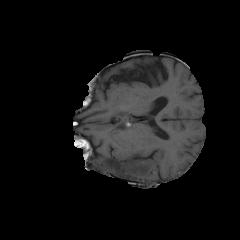glioma: (79, 139, 155, 183)
